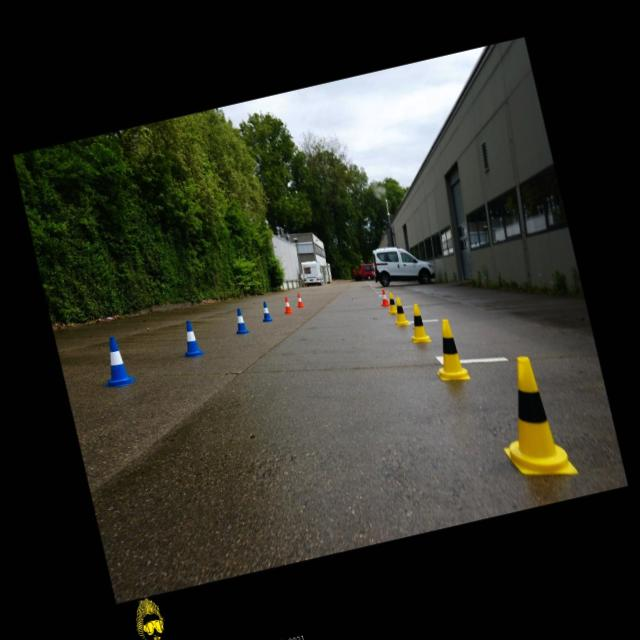blue_cone: (93, 333, 137, 390), (178, 318, 203, 358), (231, 307, 248, 334), (258, 300, 272, 322)
orange_cone: (378, 288, 390, 306), (280, 296, 292, 314), (295, 293, 303, 307)
yellow_cone: (484, 348, 580, 491), (426, 316, 469, 384), (404, 302, 431, 344), (390, 296, 408, 326), (384, 292, 397, 314)
